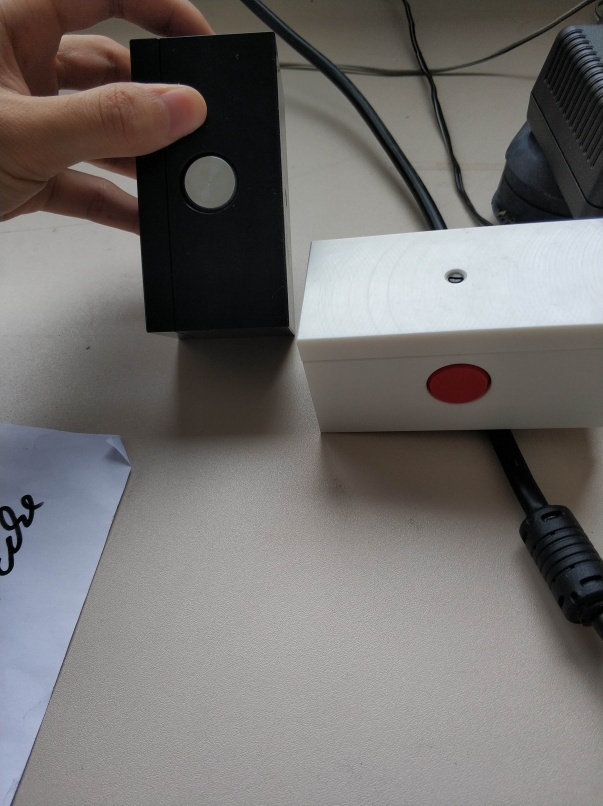black+black+silver: (126, 29, 297, 345)
white+white+red: (295, 217, 603, 440)
